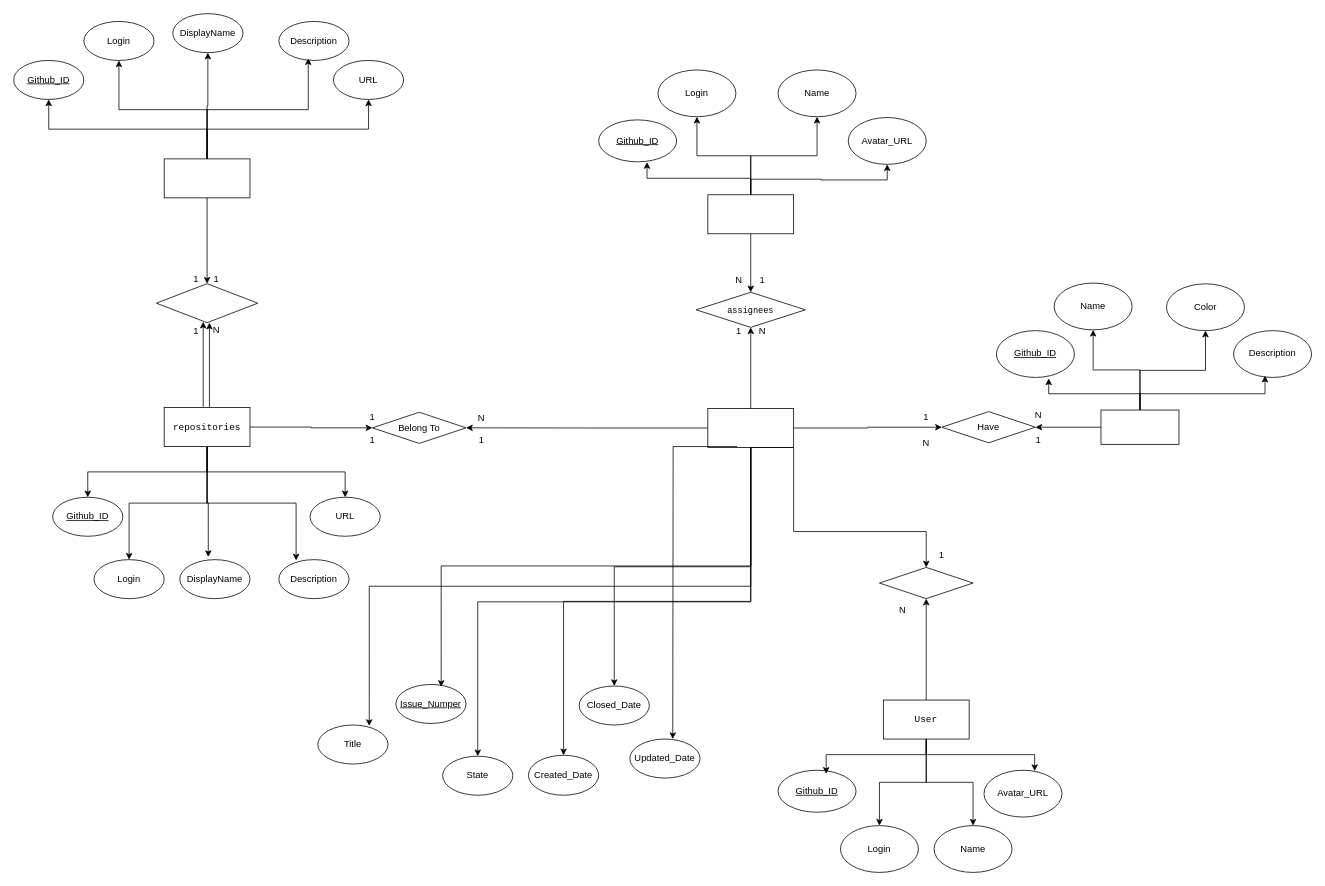
This 1325x886 diagram has some shape labels left out. Here are the shapes that lost their labels. From the top down, the centre of each, then its label:
(x=206, y=178): organizations
(x=750, y=214): users
(x=207, y=303): Has
(x=750, y=427): issues
(x=1139, y=426): labels
(x=926, y=583): Creates
